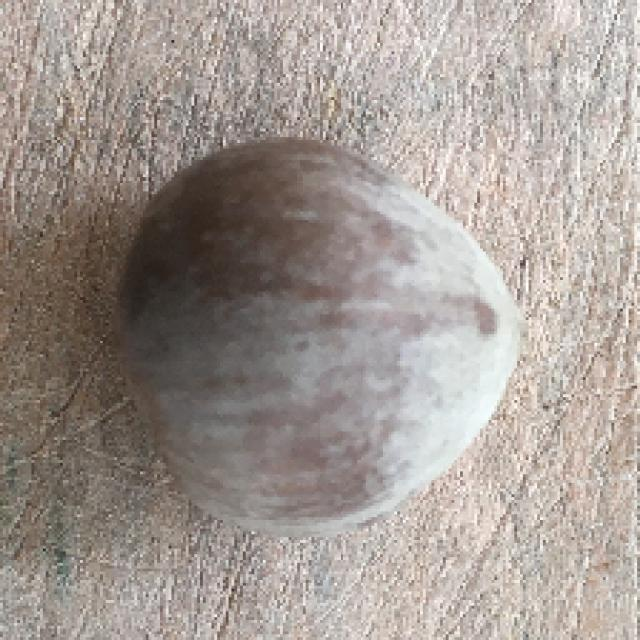damagedHazelnut: (93, 113, 536, 562)
